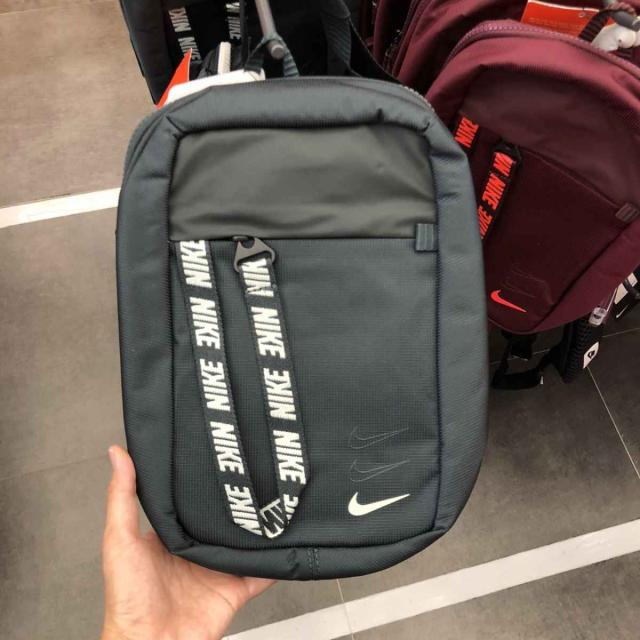Handbag: (113, 62, 496, 590)
